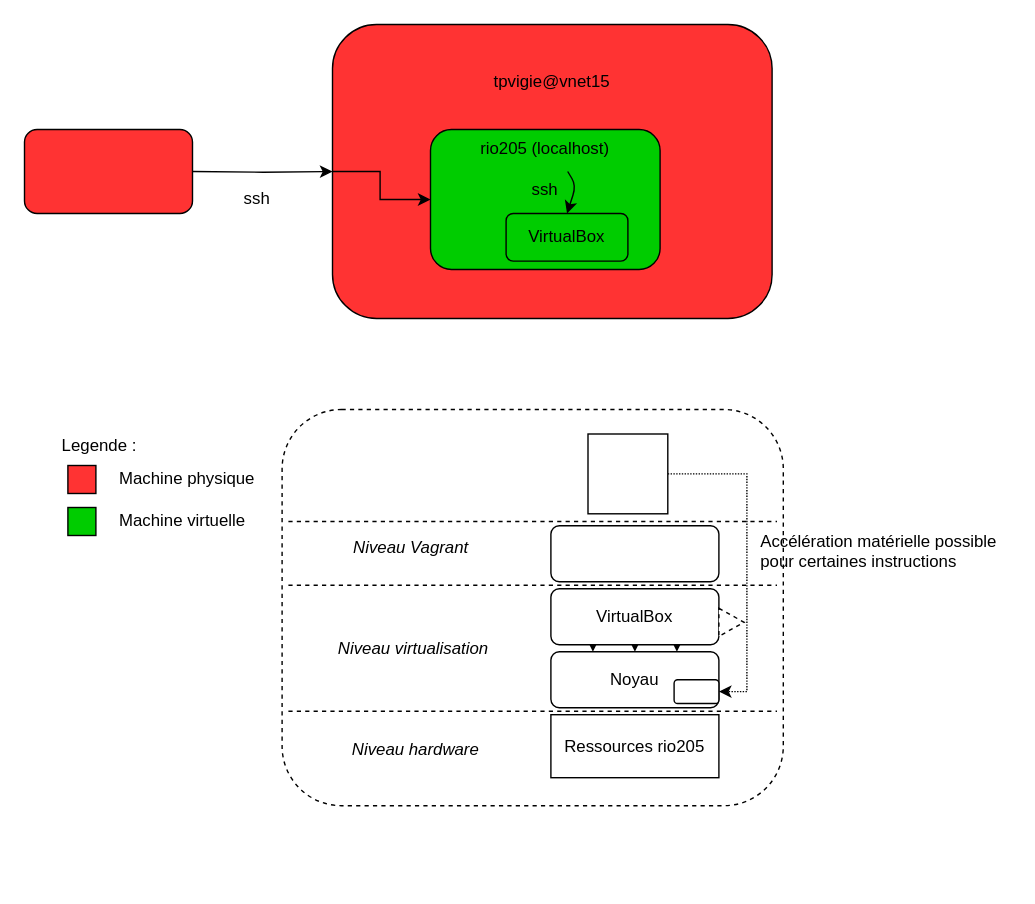
Image size: 1035x904. Some labels were removed from this diagram. The shapes that lost their labels are listed below. From the top down, each one's centre as x and y in pixels, then its label:
[107,171]: c132
[627,473]: VM
[634,553]: Vagrant
[696,691]: KVM
